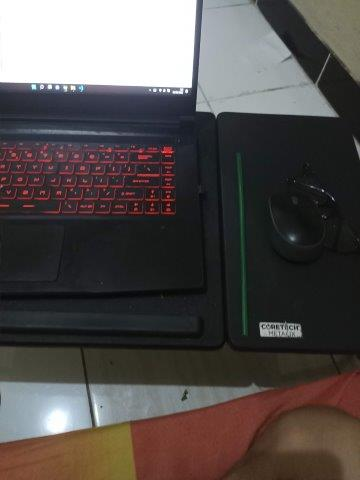sedotan: (235, 152, 248, 336)
